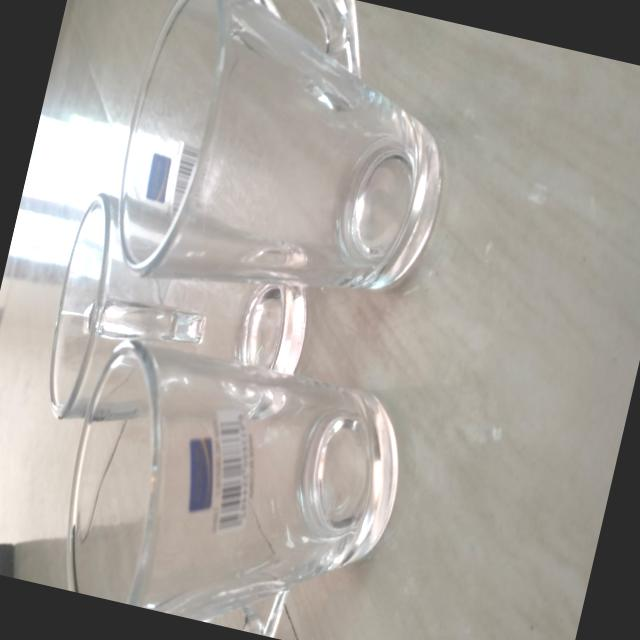glass-VX4N: (98, 0, 477, 333), (42, 319, 417, 640), (31, 187, 328, 470)
